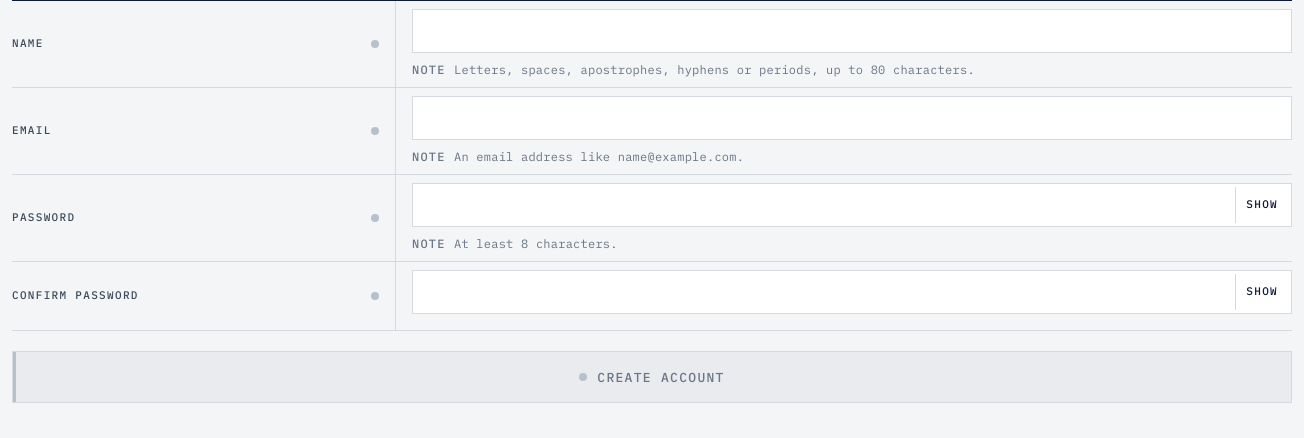
AuthForm (sign up) › states the name and email requirements up front and holds the form until both are met
Type "Ada99" into the field labelled "Name" at {"x": 852, "y": 31}, box [412,9,1292,53]
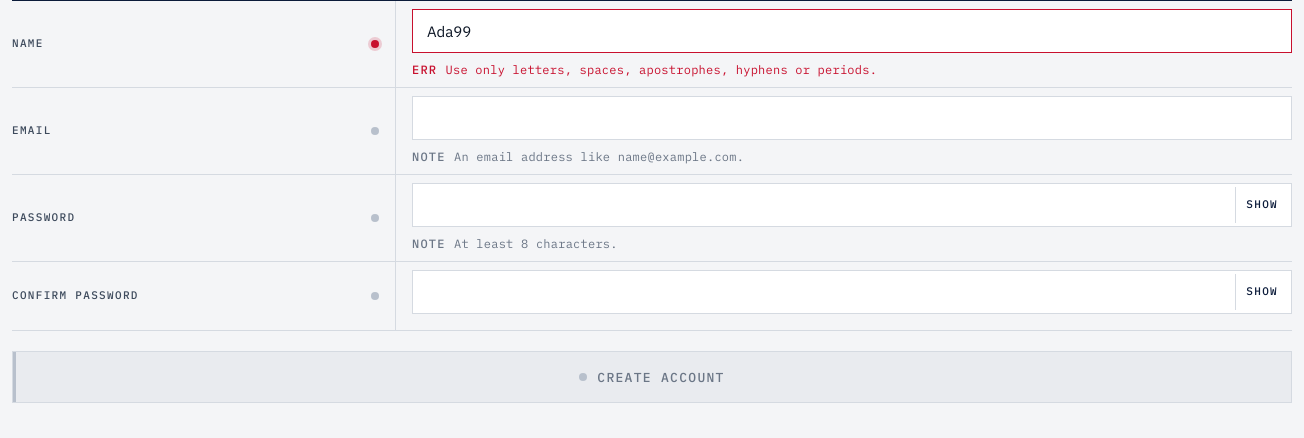
Type "ada@example.com" into the field labelled "Email" at {"x": 852, "y": 118}, box [412,96,1292,140]
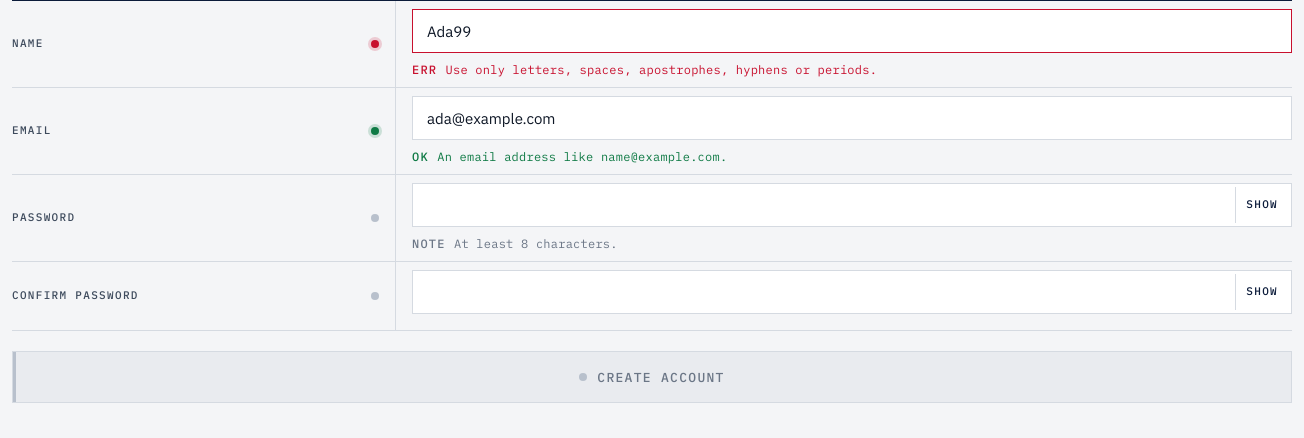
Type "correct horse battery" into the password field labelled "Password" at {"x": 852, "y": 205}, box [412,183,1292,227]
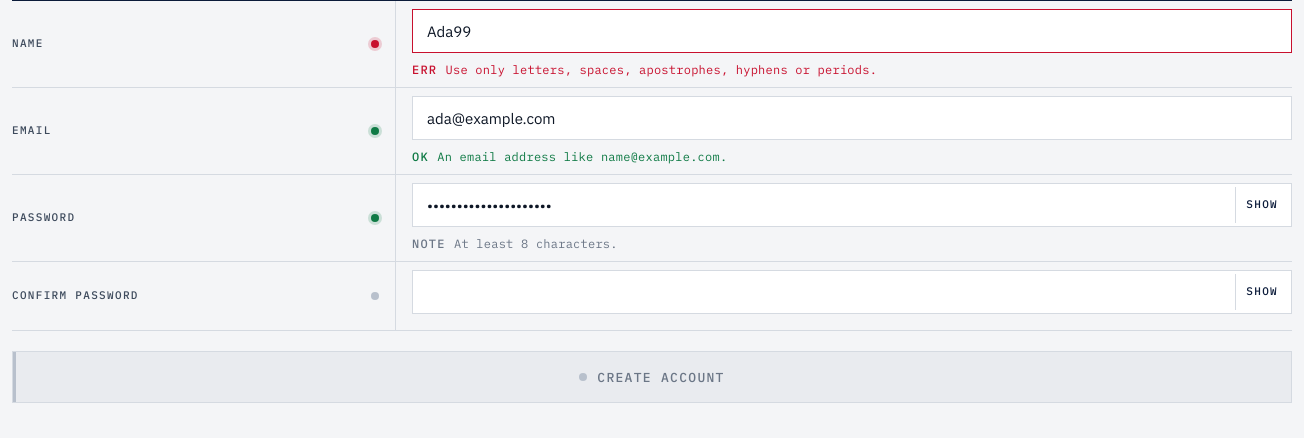
Type "correct horse battery" into the password field labelled "Confirm password" at {"x": 852, "y": 292}, box [412,270,1292,314]
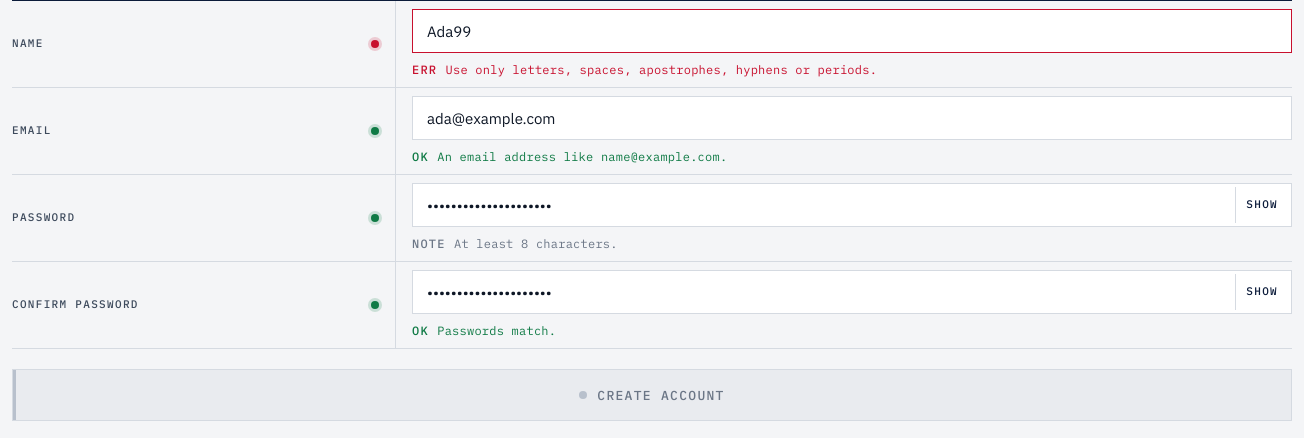
Check: the button "Create account" is disabled, box [12,369,1292,421]
Check: the text "Use only letters, spaces, apostrophes, hyphens or periods." is shown, box [446,62,877,77]
Replace the text in the field labelled "Name" with "Ada O'Brien" at {"x": 852, "y": 31}, box [412,9,1292,53]
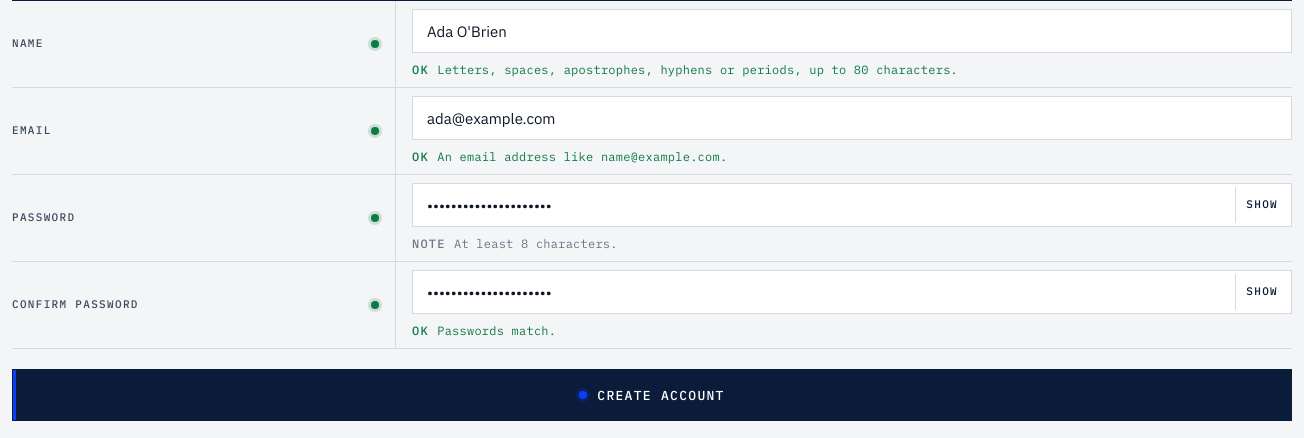
Check: the button "Create account" is enabled, box [12,369,1292,421]
